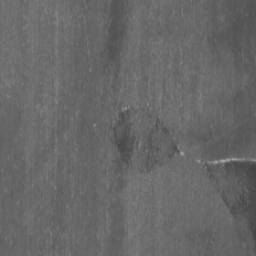Rolled pit: (197, 158, 256, 242), (113, 107, 183, 172)
